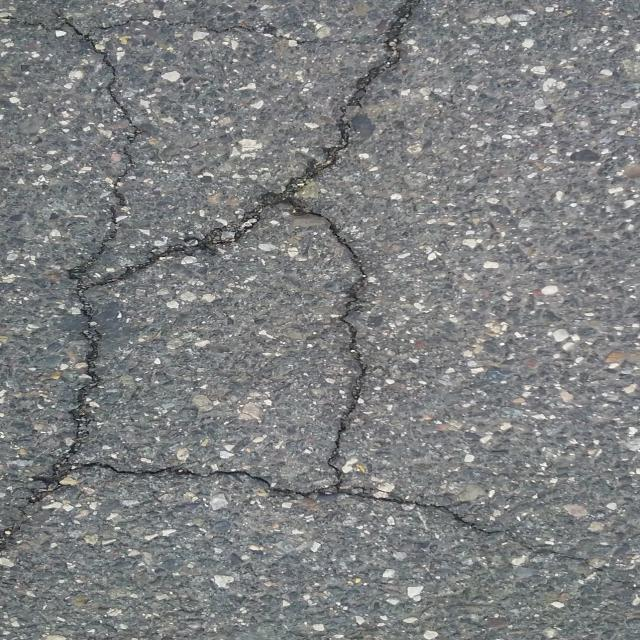Crack: (0, 0, 640, 593), (0, 16, 381, 285), (77, 202, 359, 489)
